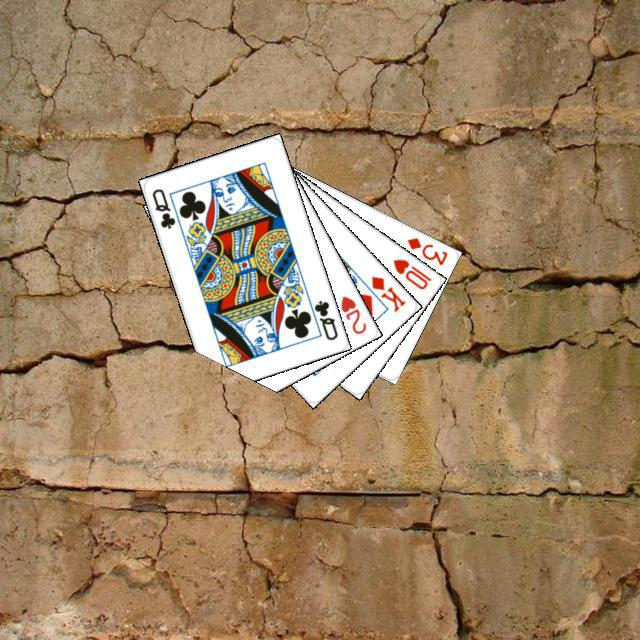10h: (388, 254, 433, 291)
2h: (335, 291, 368, 336)
3d: (402, 233, 449, 267)
Kd: (366, 271, 407, 314)
Qc: (303, 294, 340, 342), (147, 184, 177, 231)
